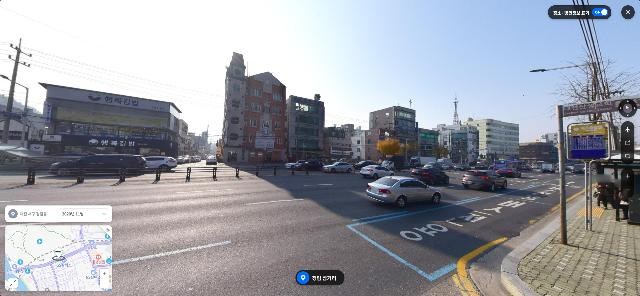ginkgo: (378, 139, 403, 166), (400, 140, 418, 167)
other: (552, 48, 639, 202)
